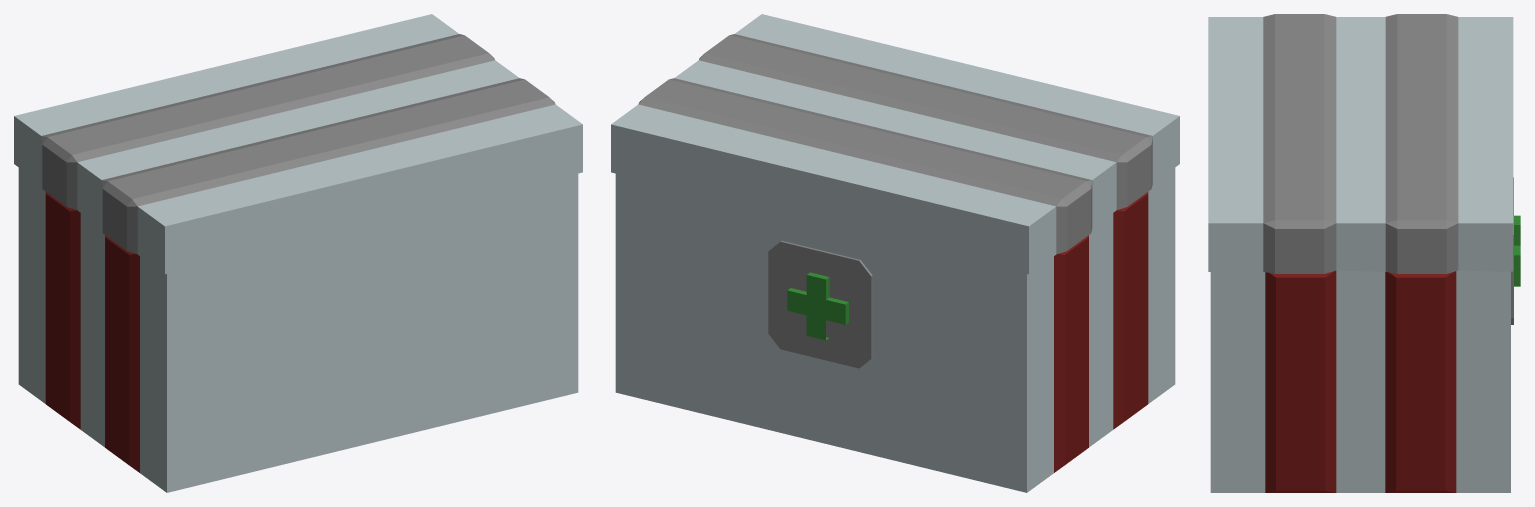
Rendered from Medkit.fbx.
3 views of the same model, side by side, from view 1: azimuth 30°, elevation 25°; view 2: azimuth 150°, elevation 25°; view 3: azimuth 270°, elevation 25° (orthographic).
Parts seen in each view (by area): view 1: Cube, Cube.001; view 2: Cube, Cube.001; view 3: Cube.001, Cube.
Part boxes in pixels (<box>): Cube: <box>18,168,578,492</box>; Cube.001: <box>14,14,582,274</box>; Cube: <box>615,168,1175,492</box>; Cube.001: <box>611,14,1179,274</box>; Cube.001: <box>1208,14,1513,273</box>; Cube: <box>1210,177,1520,492</box>.
Bounding box in the file's own units: 831 × 504 × 520.
